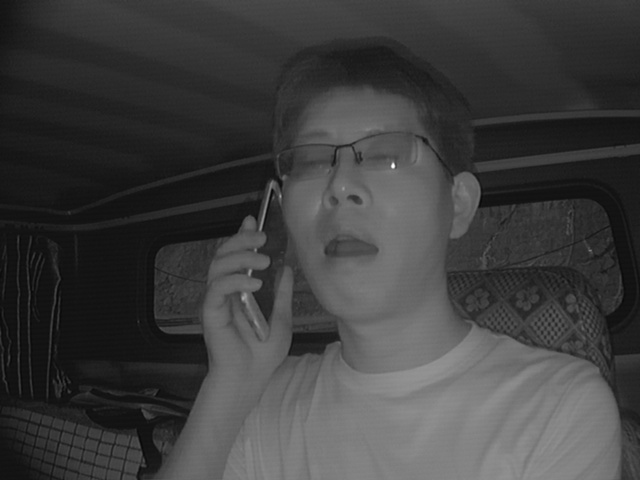hand: (192, 213, 299, 373)
